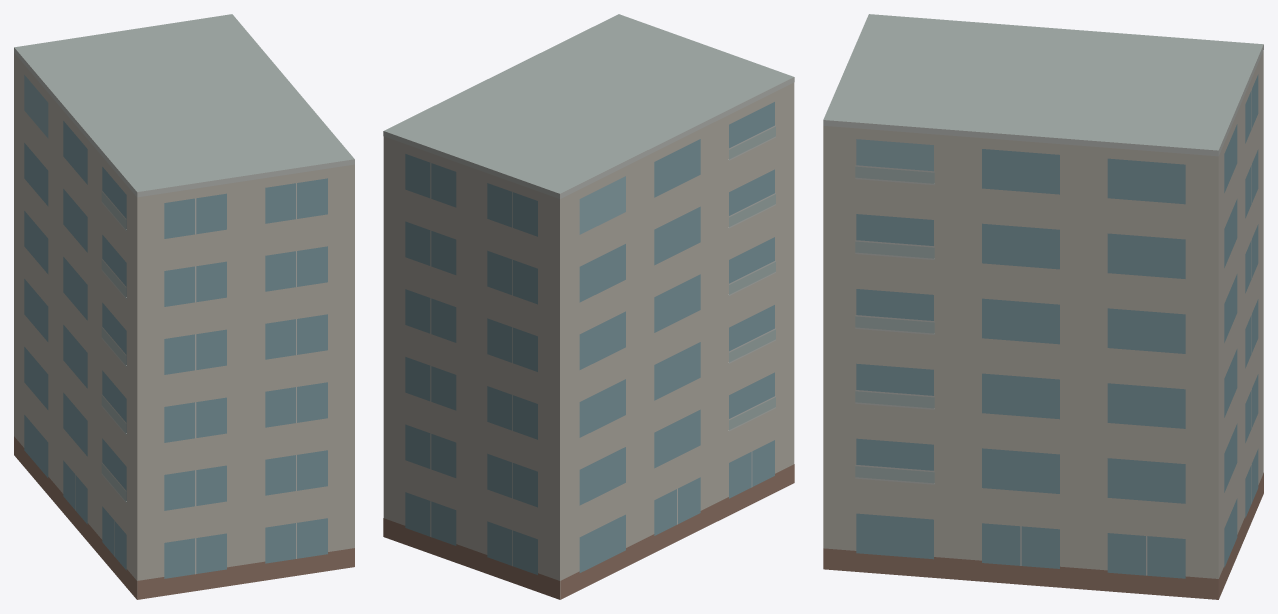
Rendered from survey-upis-33005652.glb.
3 renders of one model, left to right at view 1: azimuth 30°, elevation 25°; view 2: azimuth 150°, elevation 25°; view 3: azimuth 270°, elevation 25°, orthographic. The views are drawn at different scales.
Visible parts, largest first — view 1: survey-upis-33005652.tmp; view 2: survey-upis-33005652.tmp; view 3: survey-upis-33005652.tmp.
Boxes of the visible parts, <box> form: survey-upis-33005652.tmp: <box>14,14,354,599</box>; survey-upis-33005652.tmp: <box>383,14,794,599</box>; survey-upis-33005652.tmp: <box>823,14,1263,599</box>.
Size of the model in its own units: 12.26 by 18.8 by 16.71.
